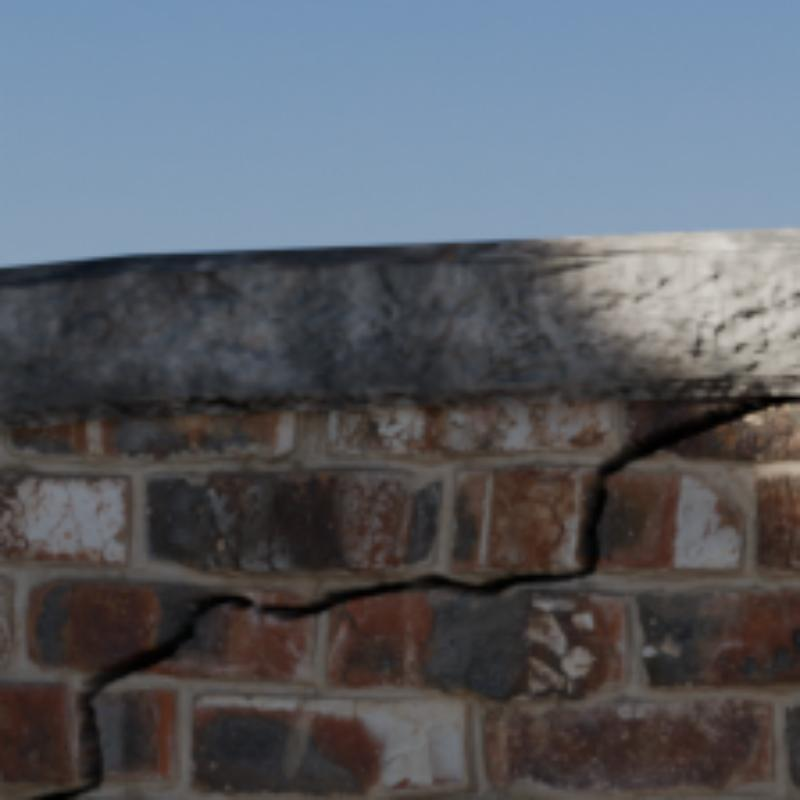pothole: (27, 395, 799, 799)
